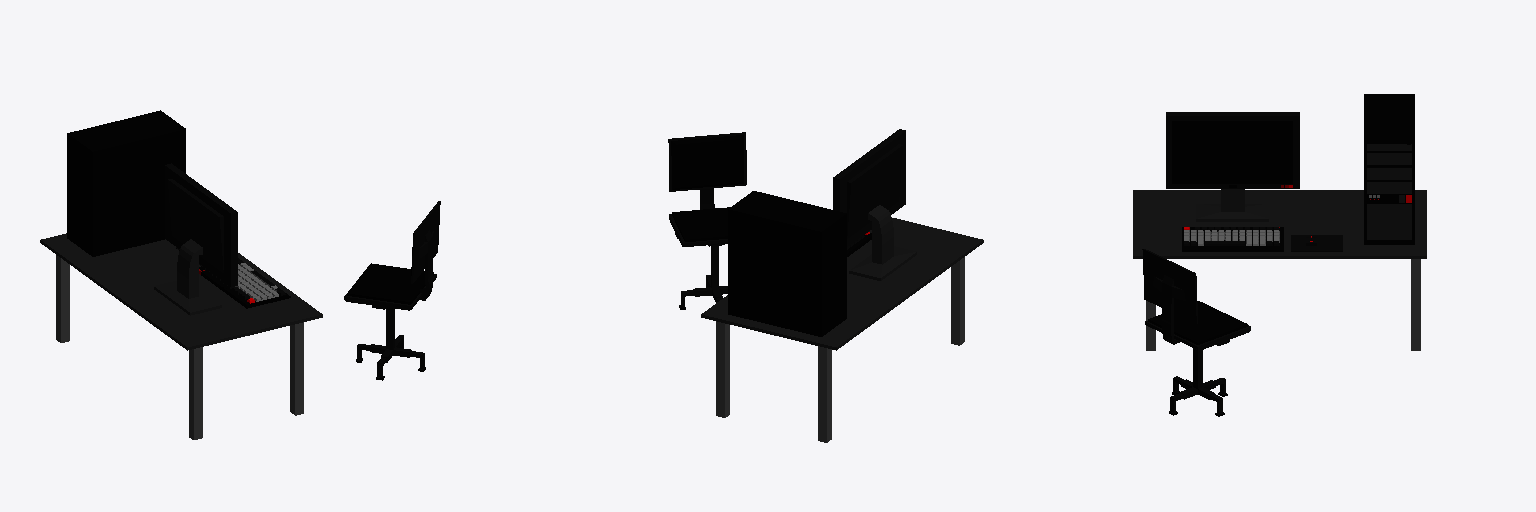
File: GamerSetup.obj
3 renders of one model, left to right at view 1: azimuth 30°, elevation 25°; view 2: azimuth 150°, elevation 25°; view 3: azimuth 270°, elevation 25°, orthographic.
Parts seen in each view (by area): view 1: Cube.024_Cube.027, Cube.018_Cube.020, Cube.002_Cube.004, Cube.019_Cube.022, Cube.012_Cube.014; view 2: Cube.018_Cube.020, Cube.024_Cube.027, Cube.019_Cube.022, Cube.002_Cube.004; view 3: Cube.024_Cube.027, Cube.002_Cube.004, Cube.018_Cube.020, Cube.019_Cube.022, Cube.012_Cube.014, Plane.
Boxes of the visible parts, x1=… form: Cube.024_Cube.027: x1=40, y1=233, x2=322, y2=439; Cube.018_Cube.020: x1=67, y1=110, x2=185, y2=256; Cube.002_Cube.004: x1=154, y1=163, x2=237, y2=315; Cube.019_Cube.022: x1=344, y1=201, x2=440, y2=380; Cube.012_Cube.014: x1=199, y1=258, x2=290, y2=308; Cube.018_Cube.020: x1=728, y1=191, x2=846, y2=336; Cube.024_Cube.027: x1=701, y1=218, x2=983, y2=442; Cube.019_Cube.022: x1=668, y1=132, x2=746, y2=309; Cube.002_Cube.004: x1=833, y1=129, x2=916, y2=280; Cube.024_Cube.027: x1=1133, y1=190, x2=1426, y2=350; Cube.002_Cube.004: x1=1166, y1=112, x2=1299, y2=221; Cube.018_Cube.020: x1=1364, y1=94, x2=1414, y2=244; Cube.019_Cube.022: x1=1142, y1=249, x2=1250, y2=416; Cube.012_Cube.014: x1=1182, y1=227, x2=1283, y2=251; Plane: x1=1291, y1=235, x2=1342, y2=251.
Bounding box in the file's own units: 4.2 × 2.93 × 3.76.